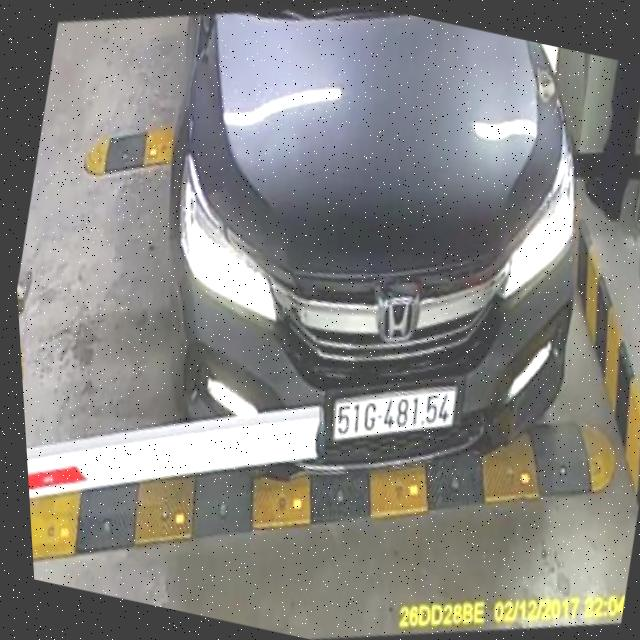car: (92, 1, 640, 548)
plate: (320, 359, 466, 470)
